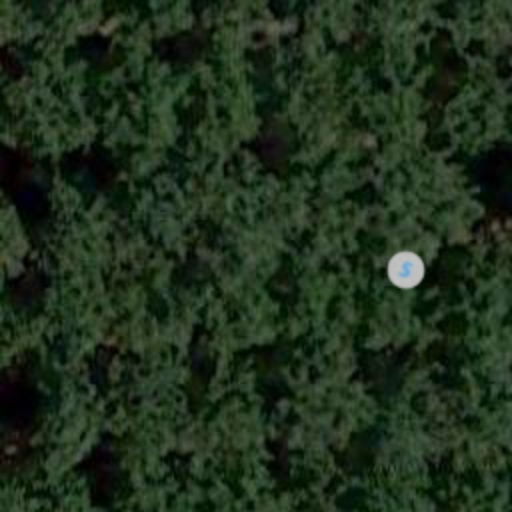circle: (382, 246, 430, 294)
